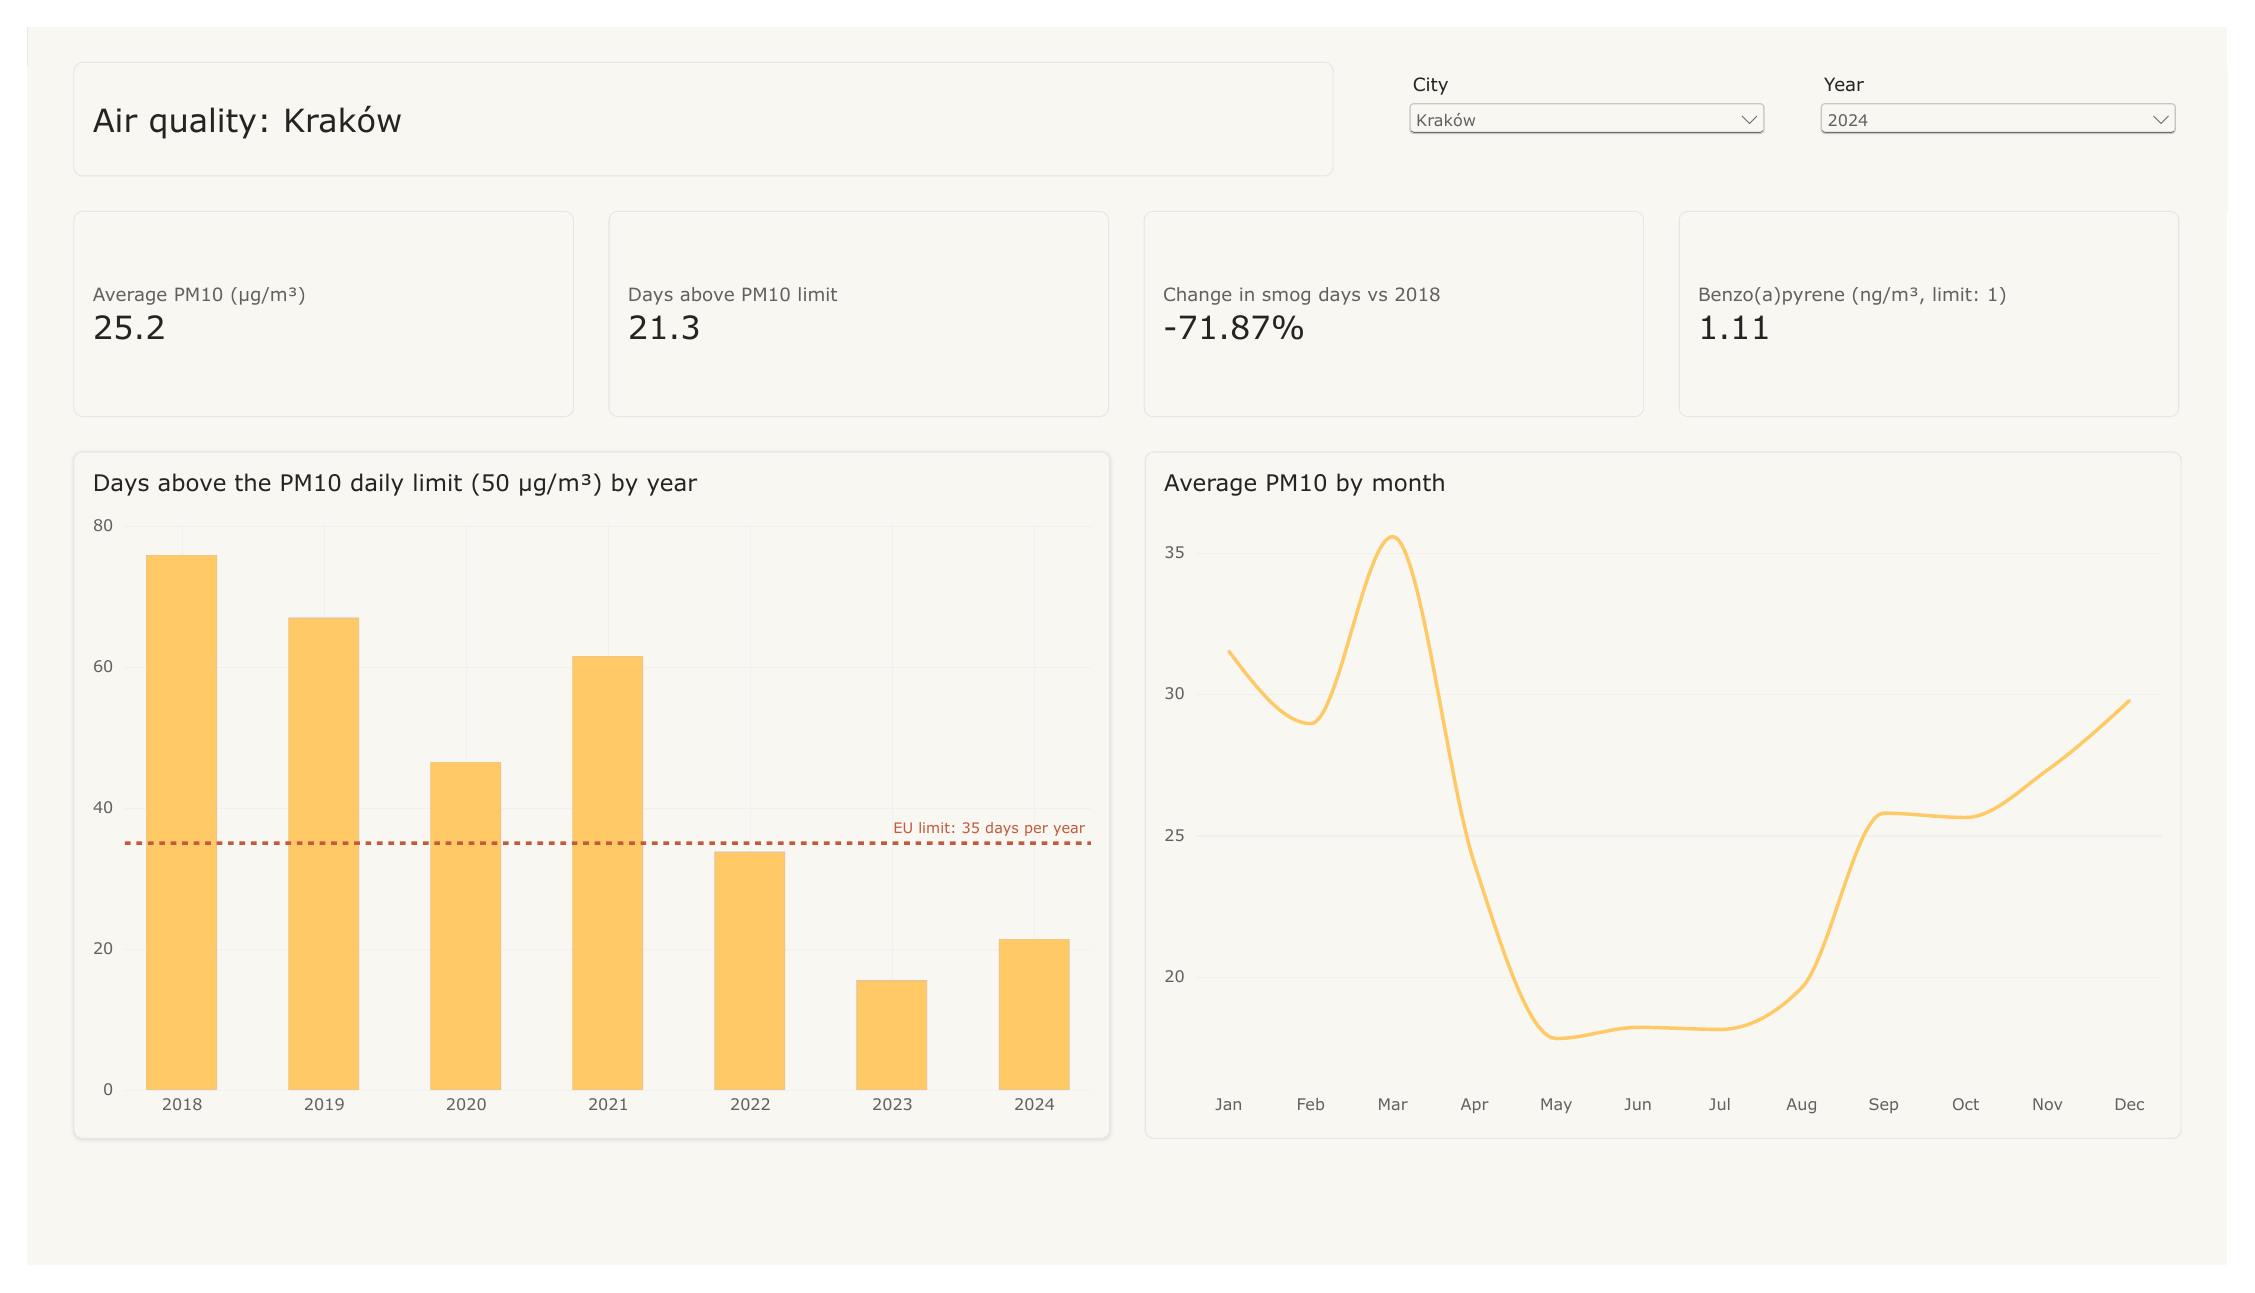

The page's visual inventory and layout, read from the dashboard file:
{"tool":"powerbi","page":{"name":"Overview","canvas":[1920,1080],"ordinal":0},"visuals":[{"type":"clusteredColumnChart","title":"Days above the PM10 daily limit (50 µg/m³) by year","fields":{"Category":["Kalendarz.Rok"],"Y":["Pomiary.Dni z przekroczeniem PM10"]},"box":[40,370,905,600],"z":0},{"type":"slicer","fields":{"Values":["Stacje.Miejscowosc"]},"box":[1201,40,320,80],"z":1000},{"type":"slicer","fields":{"Values":["Kalendarz.Rok"]},"box":[1560,40,320,80],"z":2000},{"type":"cardVisual","fields":{"Data":["Pomiary.Tytul strony"]},"box":[40,30,1100,100],"z":3000},{"type":"cardVisual","fields":{"Data":["Pomiary.Srednie PM10"]},"box":[40,160,437,180],"z":4000},{"type":"cardVisual","fields":{"Data":["Pomiary.Dni z przekroczeniem PM10"]},"box":[507,160,437,180],"z":5000},{"type":"cardVisual","fields":{"Data":["Pomiary.Zmiana vs 2018"]},"box":[974,160,437,180],"z":6000},{"type":"cardVisual","fields":{"Data":["Pomiary.Srednie BaP"]},"box":[1441,160,437,180],"z":7000},{"type":"lineChart","title":"Average PM10 by month","fields":{"Category":["Kalendarz.Miesiac"],"Y":["Pomiary.Srednie PM10"]},"box":[975,370,905,600],"z":8000}]}

Visuals, with their boxes in screenshot pixels (x1, y1, x2, y2), scaled from the page's 1920x1080 canvas onto the 2255x1293 screenshot:
"Days above the PM10 daily limit (50 µg/m³) by year" clusteredColumnChart: crop(47, 443, 1110, 1161)
slicer - Stacje.Miejscowosc: crop(1411, 48, 1786, 144)
slicer - Kalendarz.Rok: crop(1832, 48, 2208, 144)
cardVisual - Pomiary.Tytul strony: crop(47, 36, 1339, 156)
cardVisual - Pomiary.Srednie PM10: crop(47, 192, 560, 407)
cardVisual - Pomiary.Dni z przekroczeniem PM10: crop(595, 192, 1109, 407)
cardVisual - Pomiary.Zmiana vs 2018: crop(1144, 192, 1657, 407)
cardVisual - Pomiary.Srednie BaP: crop(1692, 192, 2206, 407)
"Average PM10 by month" lineChart: crop(1145, 443, 2208, 1161)
